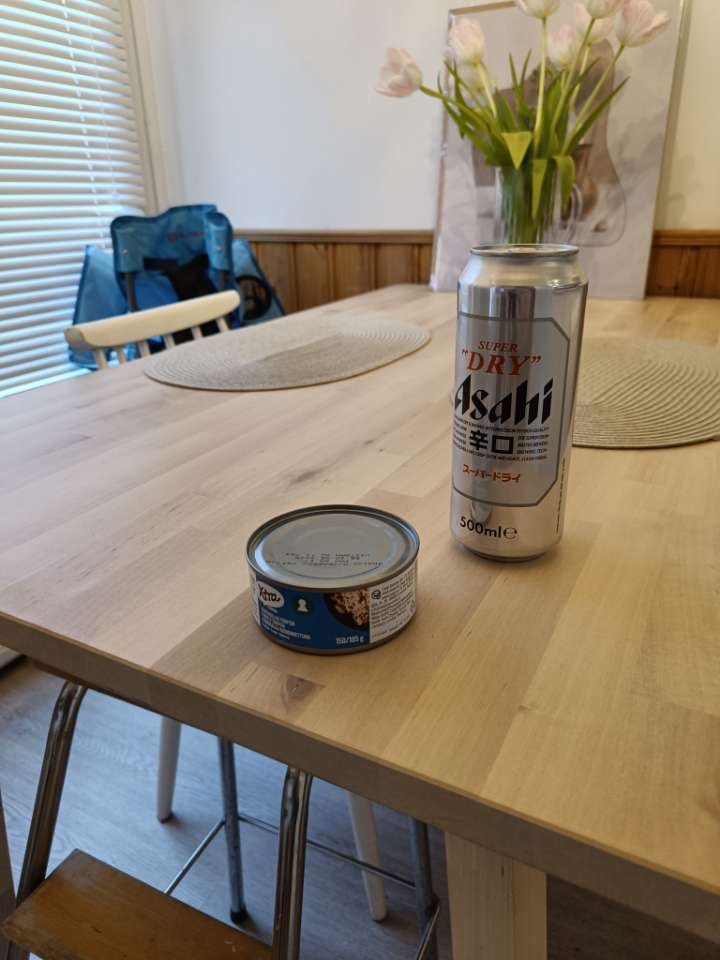Konservburk: (244, 505, 420, 656)
Pantburk: (453, 245, 588, 574)
